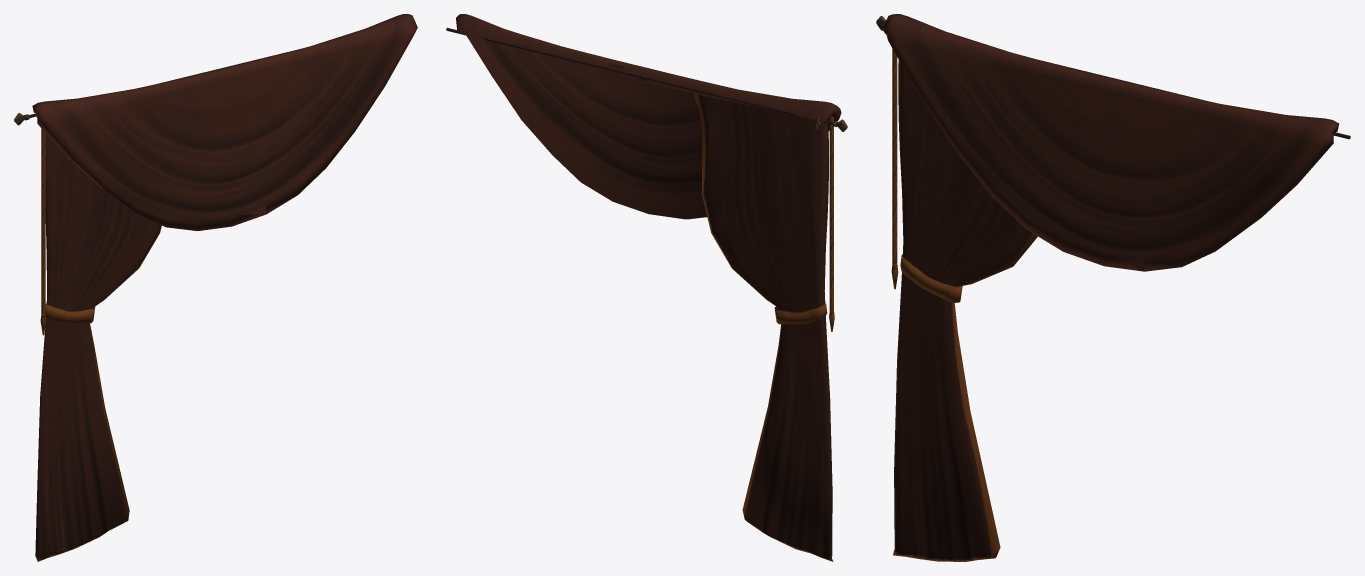
Rendered from ApartmentCurtainsLeft.obj.
The picture shows the model from 3 angles, left to right: view 1: azimuth 30°, elevation 25°; view 2: azimuth 150°, elevation 25°; view 3: azimuth 330°, elevation 25°; orthographic projection. The views are drawn at different scales.
Parts seen in each view (by area): view 1: ApartmentCurtainsLeft; view 2: ApartmentCurtainsLeft; view 3: ApartmentCurtainsLeft.
Boxes of the visible parts, <box> form: ApartmentCurtainsLeft: <box>14,14,417,561</box>; ApartmentCurtainsLeft: <box>446,14,847,561</box>; ApartmentCurtainsLeft: <box>876,14,1350,561</box>.
Bounding box in the file's own units: 264 × 288 × 18.4.
Materials: 1 (1 with a texture image).
